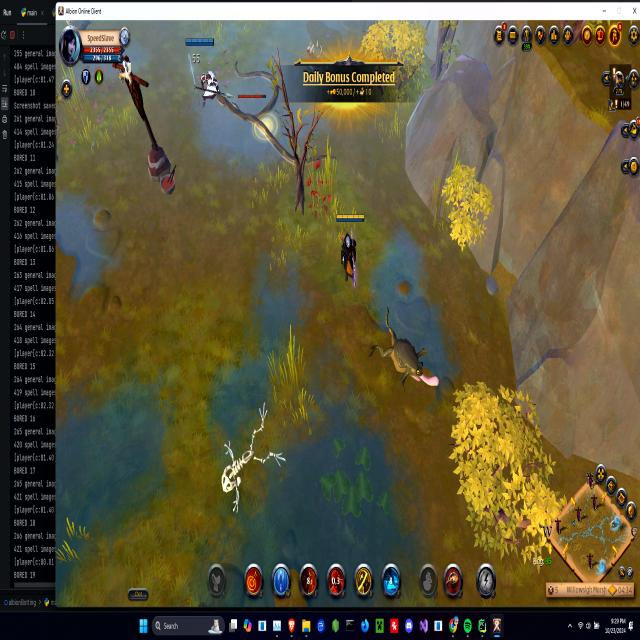ore: (208, 80, 343, 178)
red: (183, 30, 225, 110), (334, 207, 366, 290)
